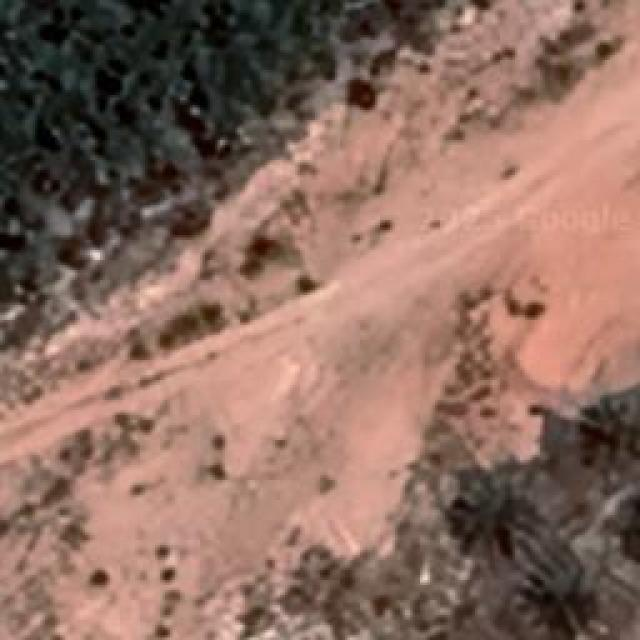PalmTree: (17, 89, 631, 525), (68, 83, 606, 434), (505, 550, 595, 638), (456, 464, 532, 548), (629, 482, 640, 570)
